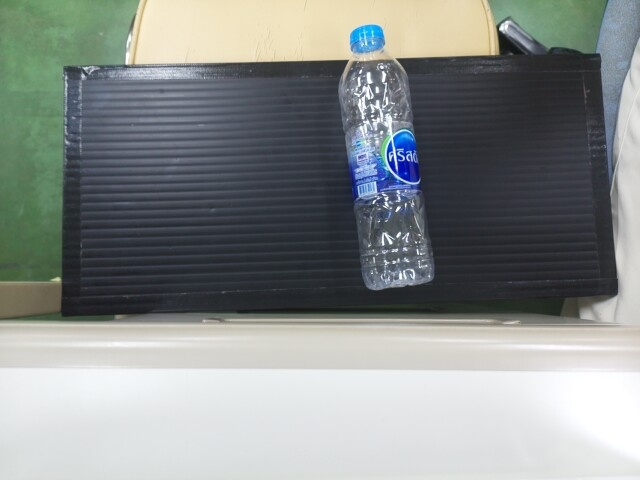plastic_bottle: (335, 21, 436, 293)
